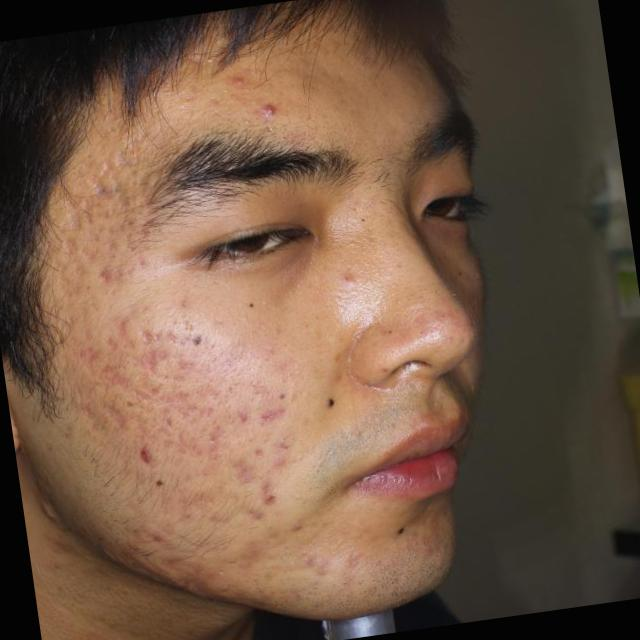acne: (126, 240, 166, 290), (151, 548, 201, 588), (168, 378, 210, 422), (131, 213, 177, 250), (128, 438, 169, 478), (98, 362, 136, 400), (272, 430, 314, 464), (88, 260, 127, 294), (102, 313, 142, 346), (297, 545, 333, 581), (72, 342, 106, 380), (136, 522, 176, 554), (240, 441, 282, 471), (253, 478, 290, 512), (75, 174, 112, 207), (224, 61, 259, 90), (194, 425, 230, 453), (219, 401, 251, 430), (254, 398, 287, 426), (160, 425, 188, 454), (256, 98, 288, 122), (193, 569, 224, 593), (141, 328, 169, 354), (145, 408, 176, 430), (93, 236, 130, 254), (229, 460, 253, 486), (66, 208, 92, 229), (134, 350, 158, 369)
